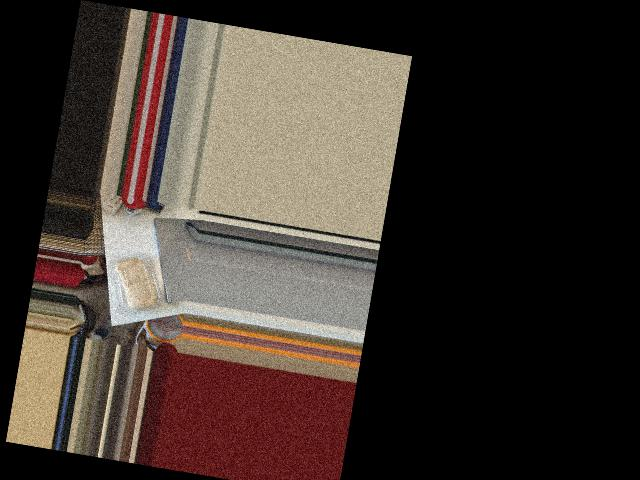cheese: (100, 245, 170, 325)
